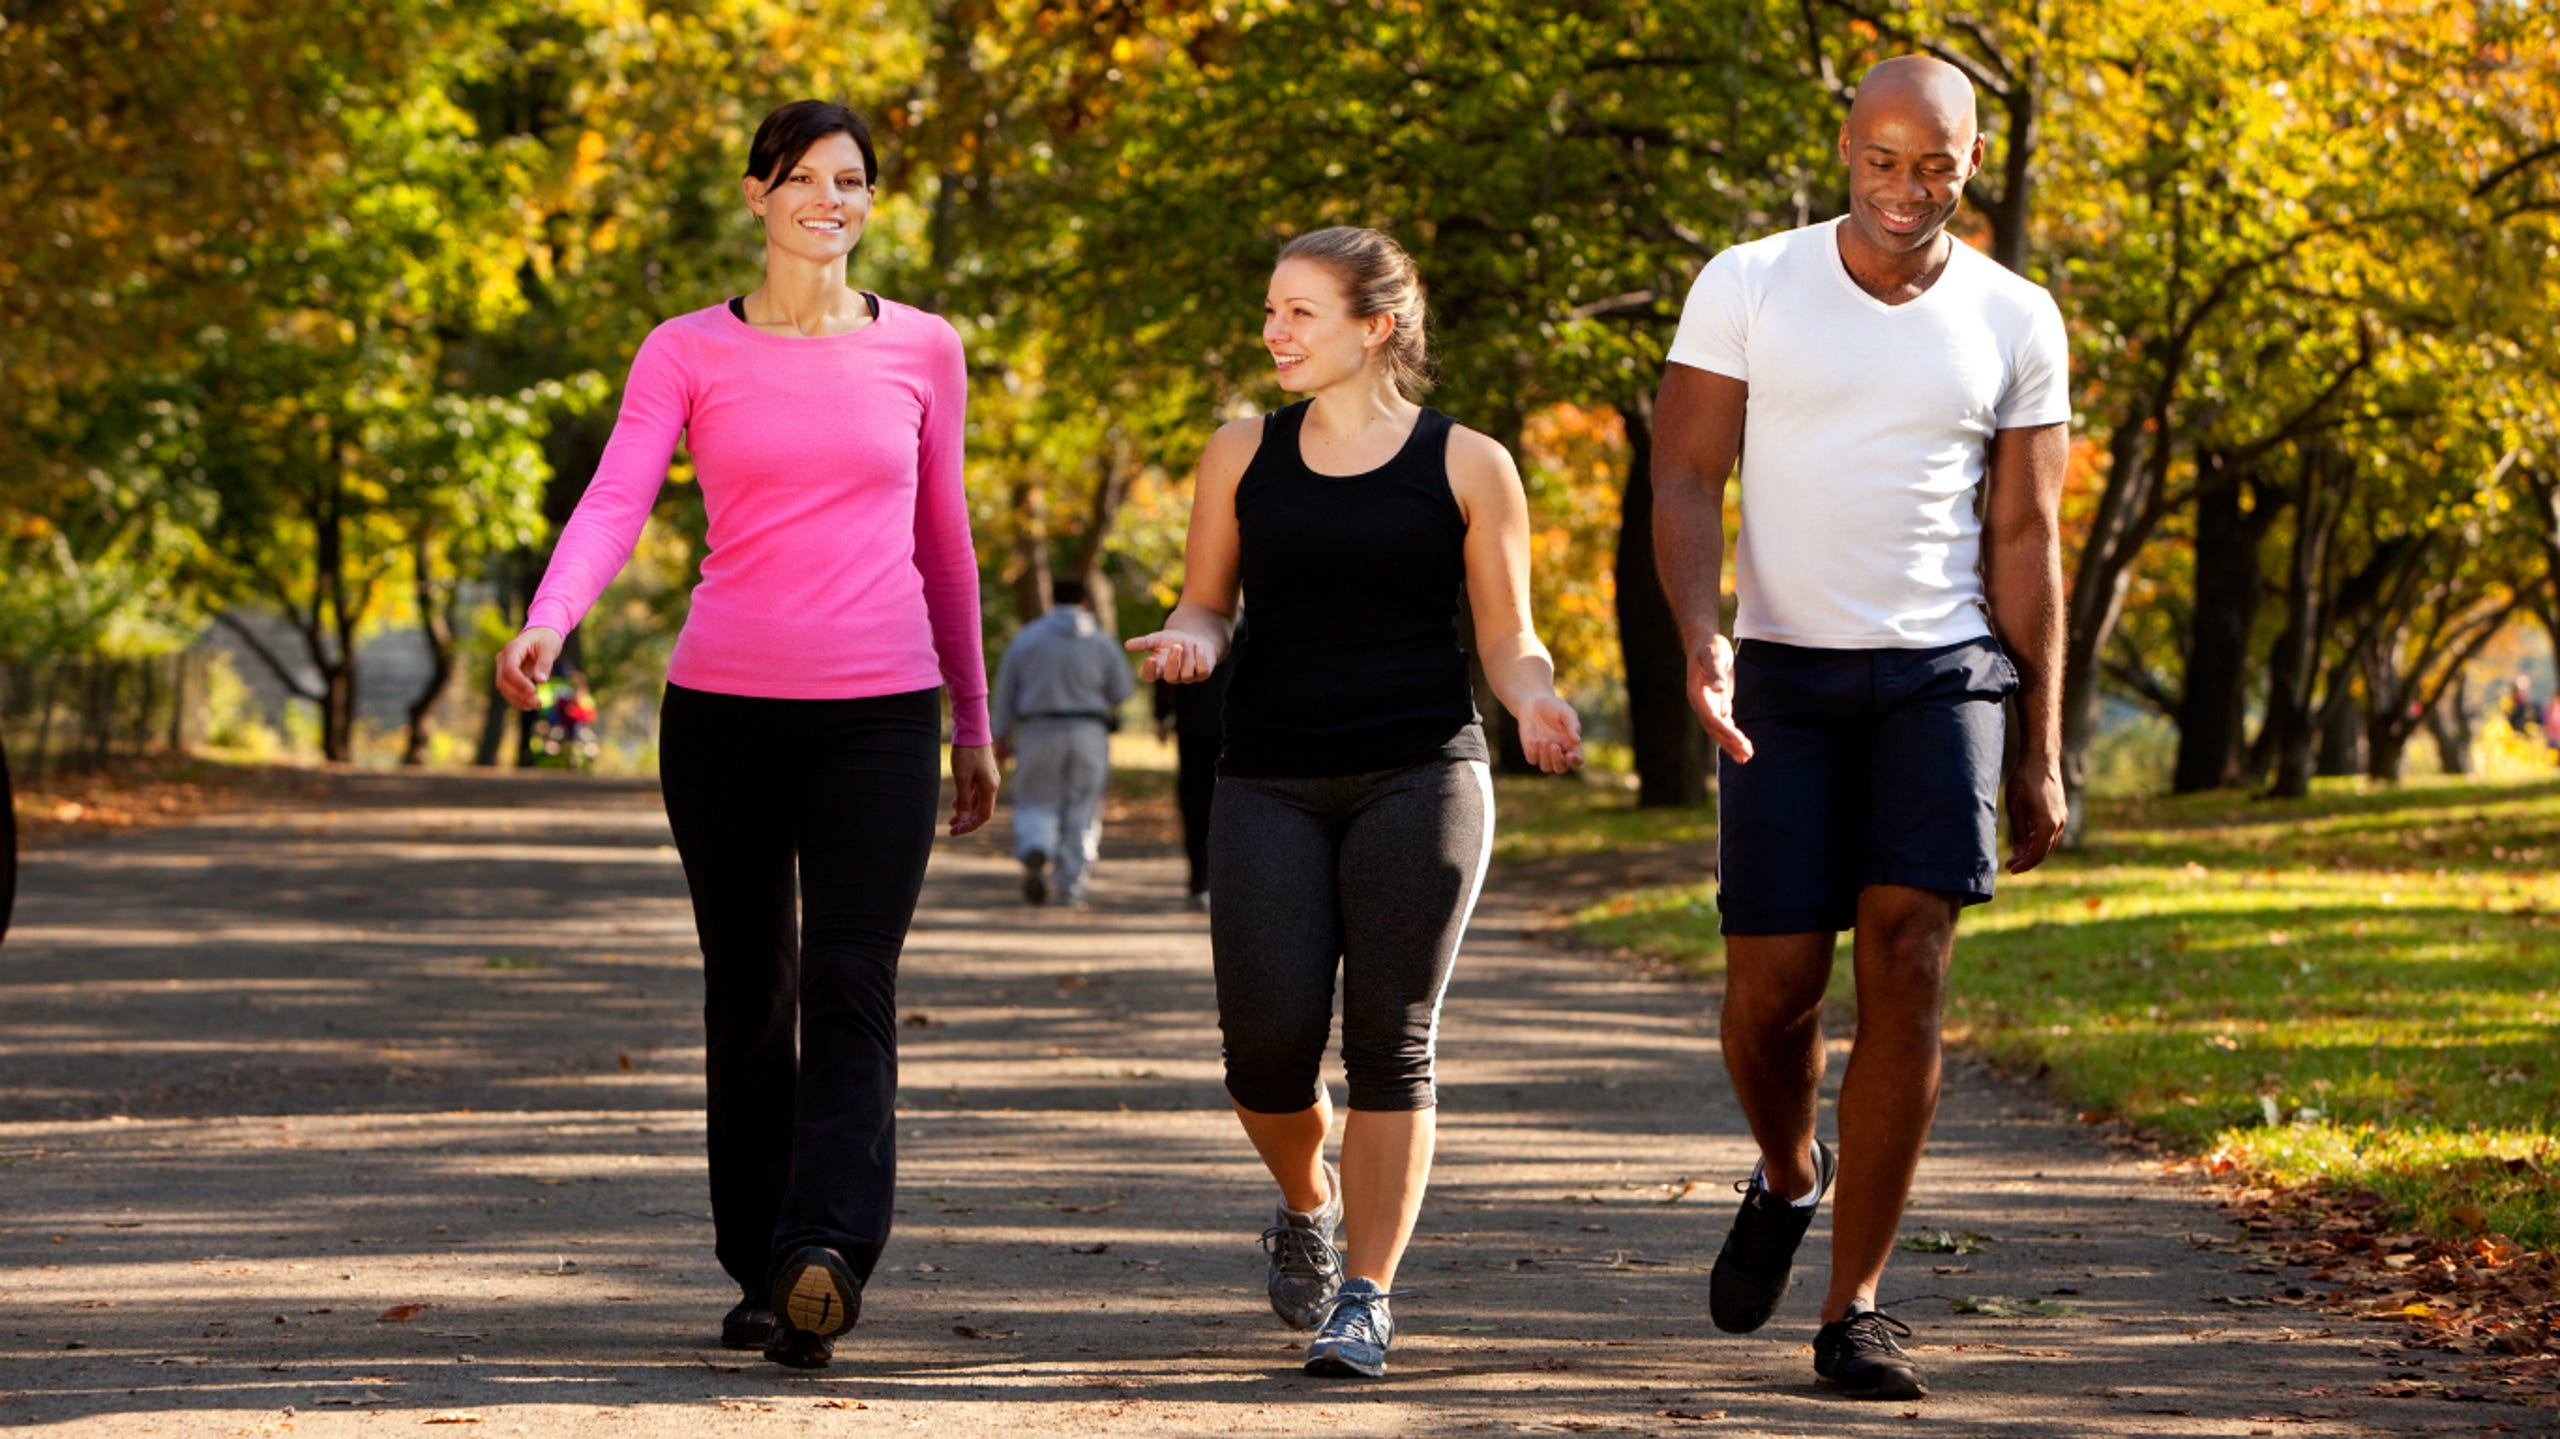Bad: (496, 97, 1588, 1379), (1122, 56, 2071, 1400)
